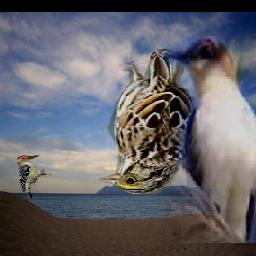Cuckoo: (161, 37, 256, 244)
Sparrow: (98, 49, 197, 195)
Woodpecker: (16, 155, 50, 199)
